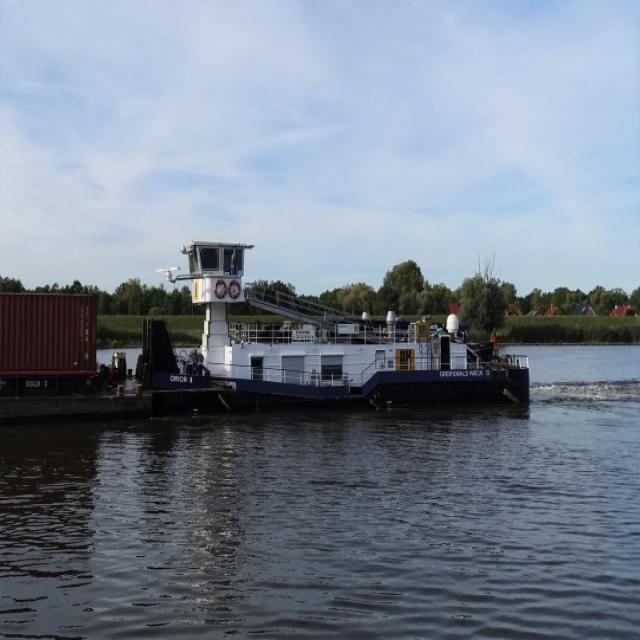tugboat: (134, 235, 534, 429)
